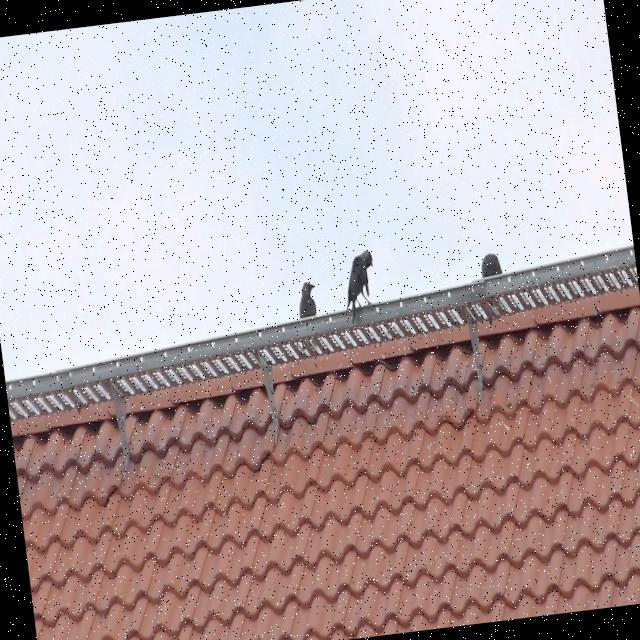bird: (339, 248, 380, 322), (294, 279, 320, 320)
